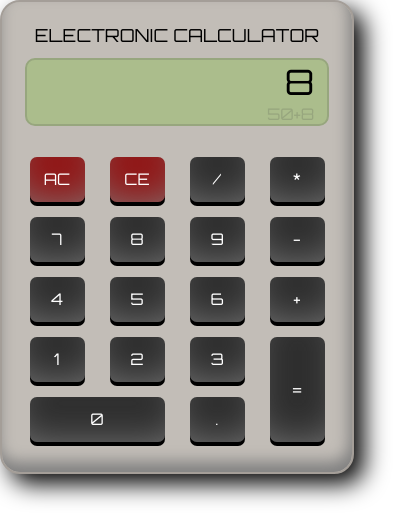
Test: method pressEqualSign › renders result at expression and inputValue
Expected: the text with class "Calc__input-value" reads "8", x1=285 y1=60 x2=314 y2=104
Expected: the text with class "Calc__expression" reads "50+8", x1=267 y1=104 x2=314 y2=124
Step 1. Click the text with class "Calc__button_right" → {"x": 297, "y": 389}, box x1=270 y1=336 x2=324 y2=442
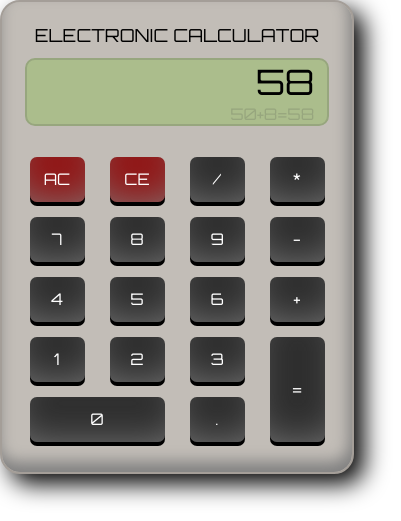
Expected: the text with class "Calc__expression" reads "50+8=58", x1=230 y1=104 x2=314 y2=124
Result: the text with class "Calc__input-value" reads "58" at x1=256 y1=60 x2=314 y2=104
